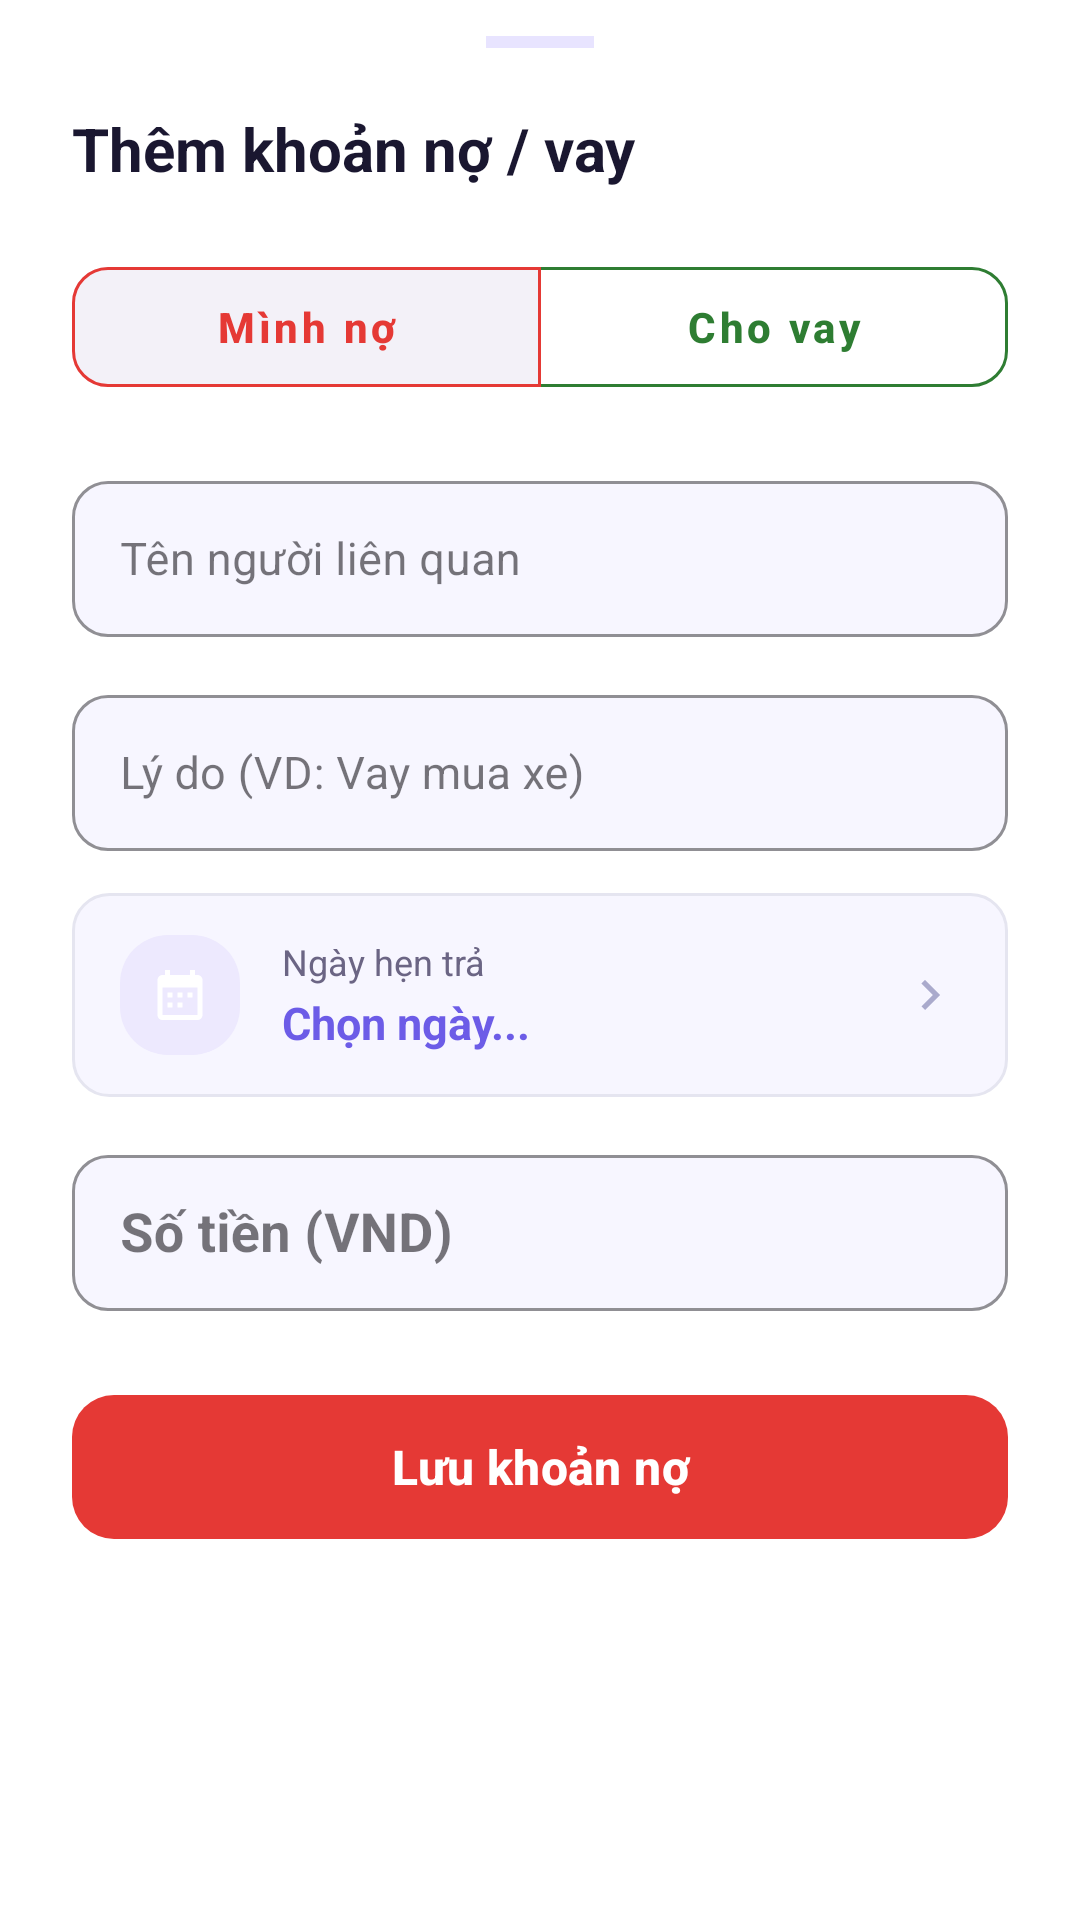

Icon click points for this 1080px x 1920px phone screenshot, format point (x, y):
chevron right: point (930, 995)
